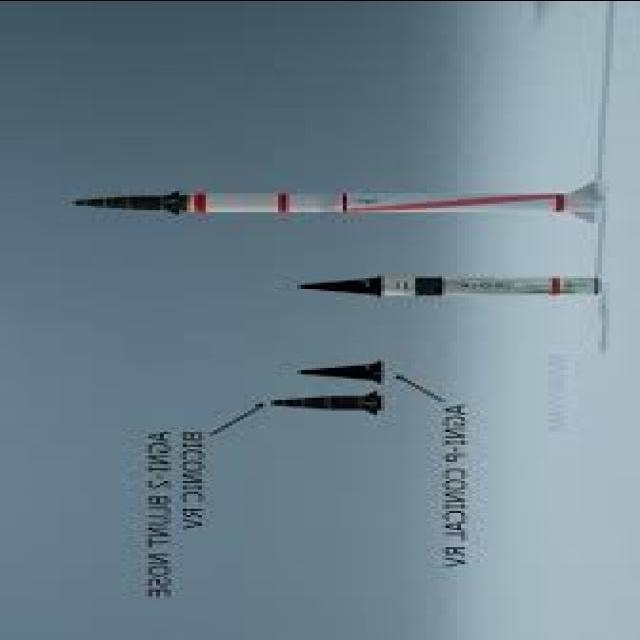Missile: (65, 177, 606, 224), (285, 266, 600, 299)
